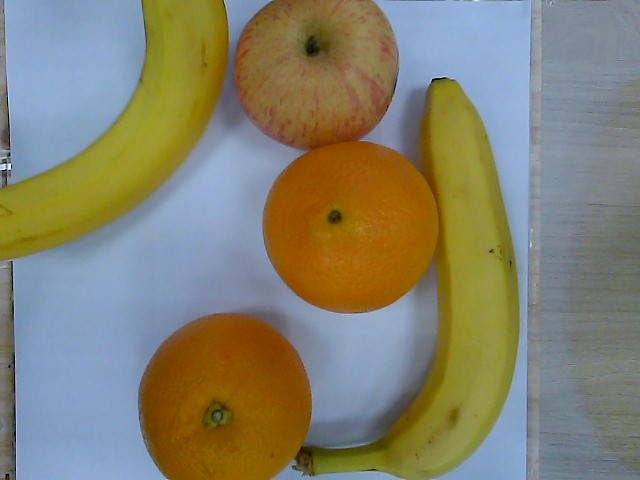fresh_apple: (233, 1, 402, 149)
fresh_banana: (3, 1, 229, 264), (379, 79, 520, 480)
fresh_orange: (263, 141, 439, 316), (140, 314, 312, 480)
